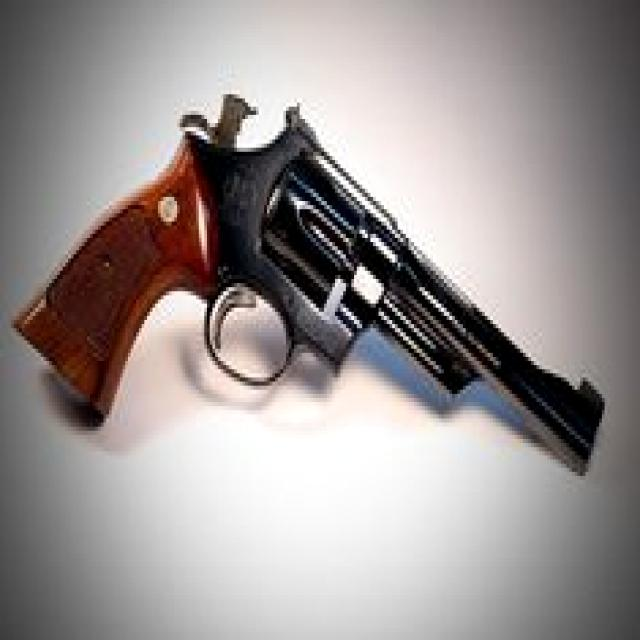revolver: (7, 9, 618, 544)
